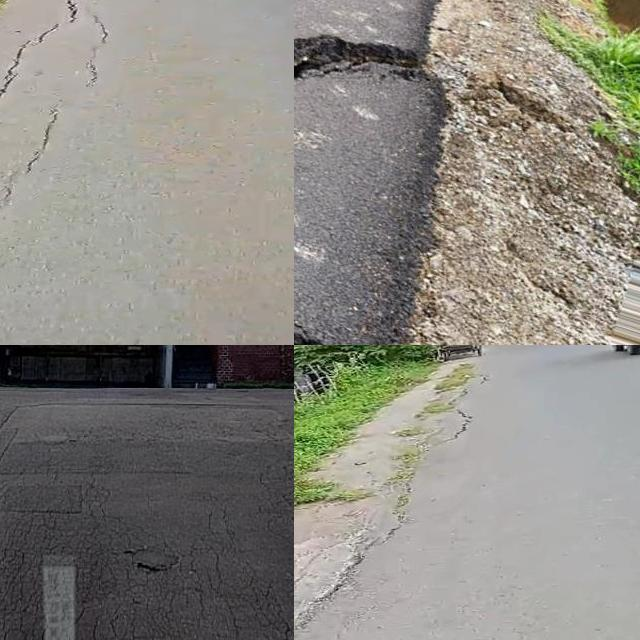Pinggir: (294, 16, 479, 345), (294, 369, 475, 635)
Retak Buaya: (0, 497, 169, 640)
